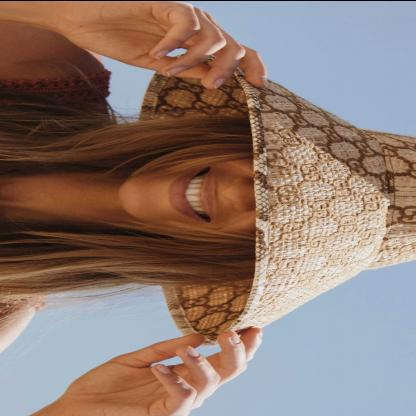hat: (131, 51, 416, 346)
